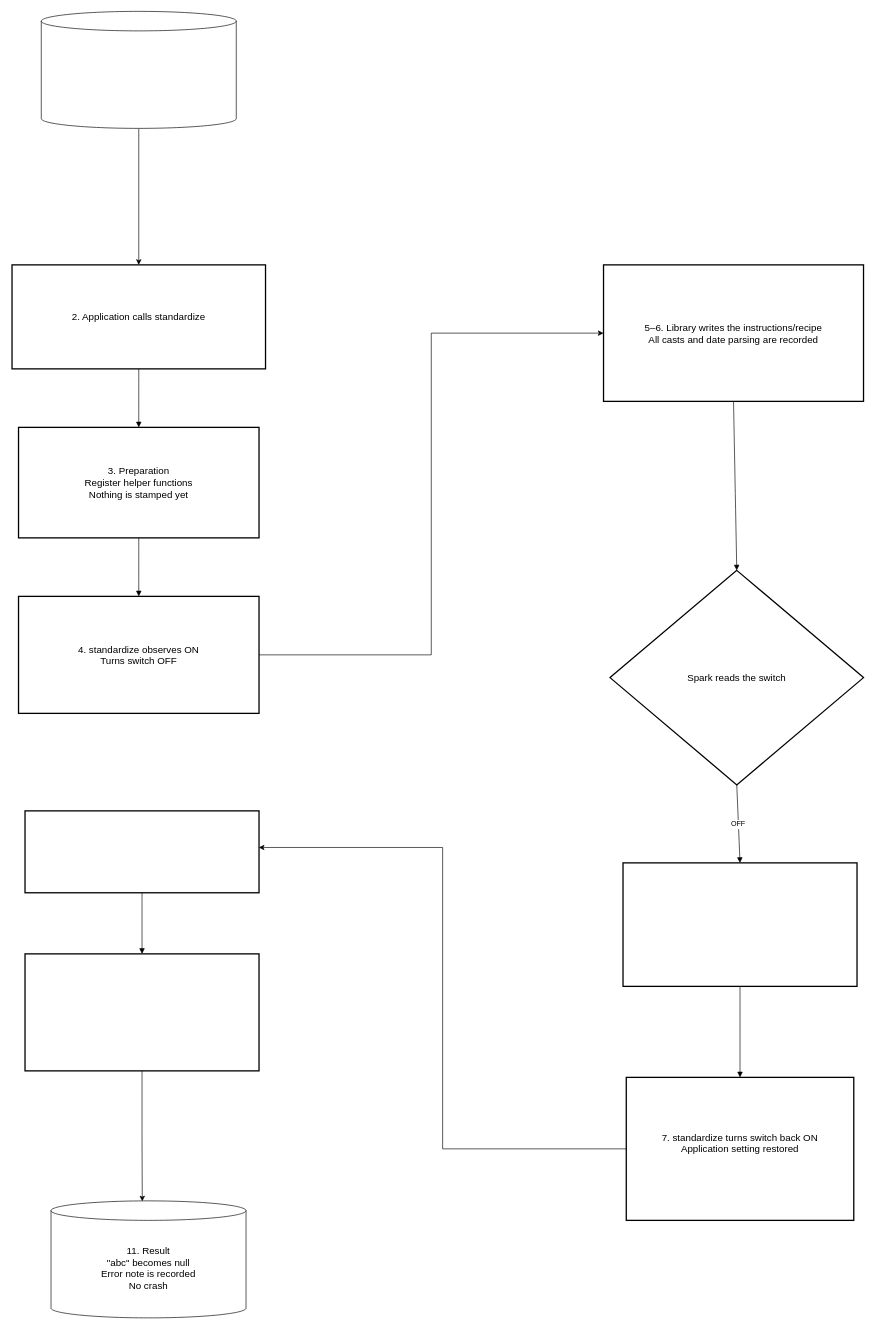
Image size: 875x1329. Some labels were removed from this diagram. Each missing label, with the centre of its shape:
1. Application starts Strict mode ON (Spark 4 default): the point at 138,69
8. Application receives the DataFrame (finished recipe): the point at 141,851
9–10. Application calls collect() / write(): the point at 141,1012
Every step receives the LEGACY stamp Measured: 18 casts + 3 date parsers: the point at 739,924
